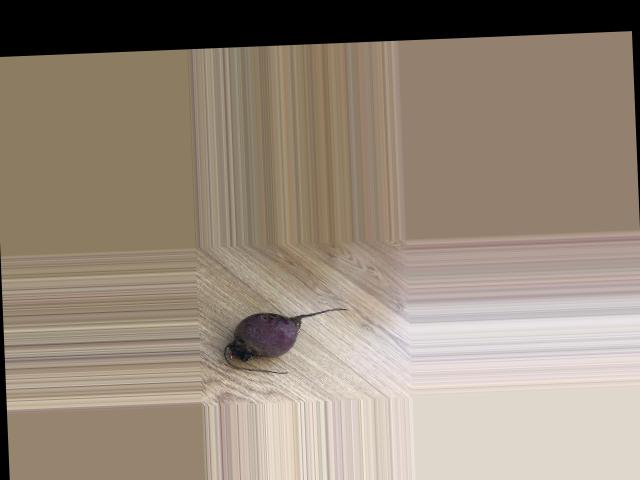beet: (222, 307, 351, 375)
